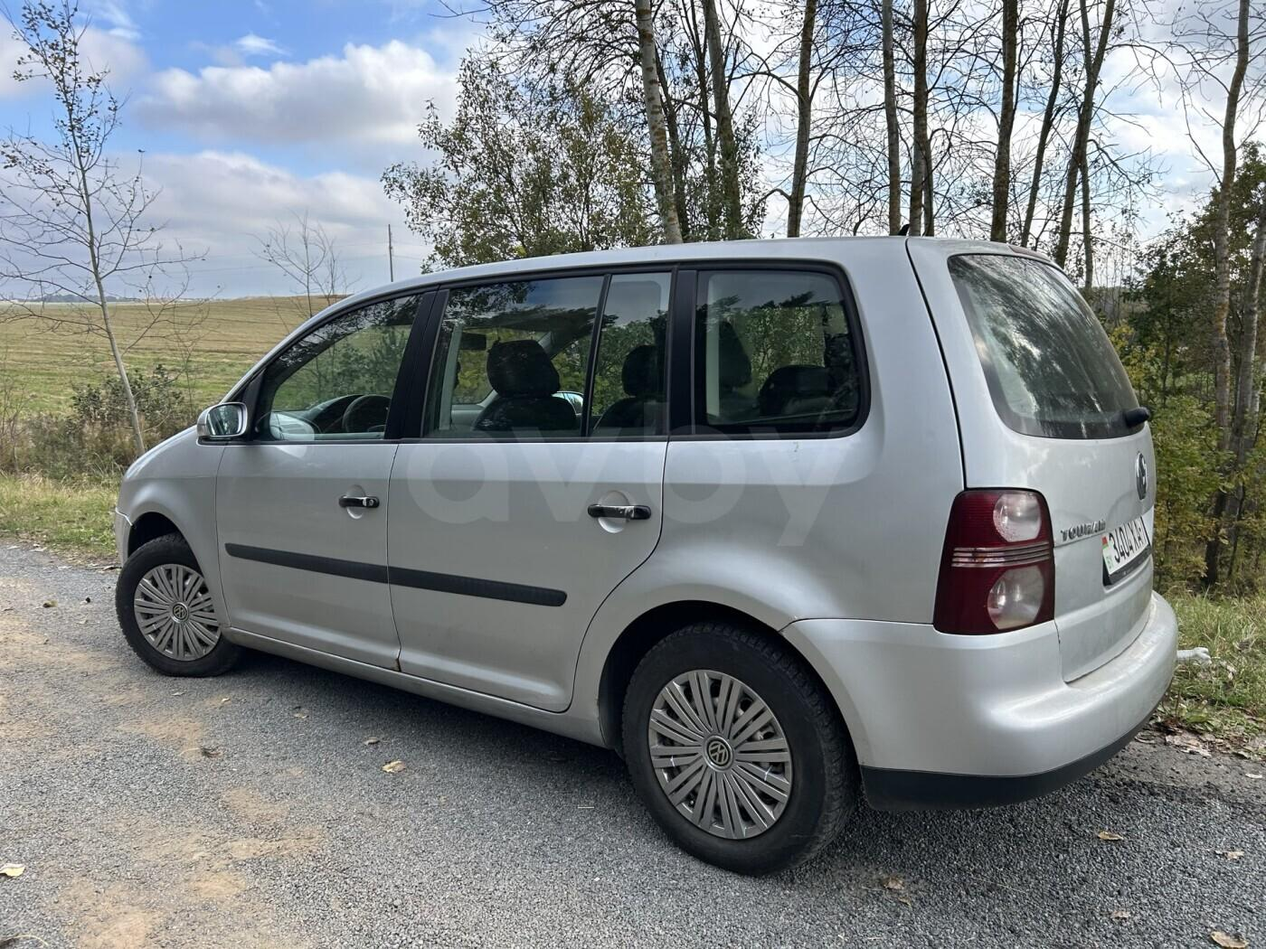Touran_2003-2006: (109, 234, 1187, 868)
